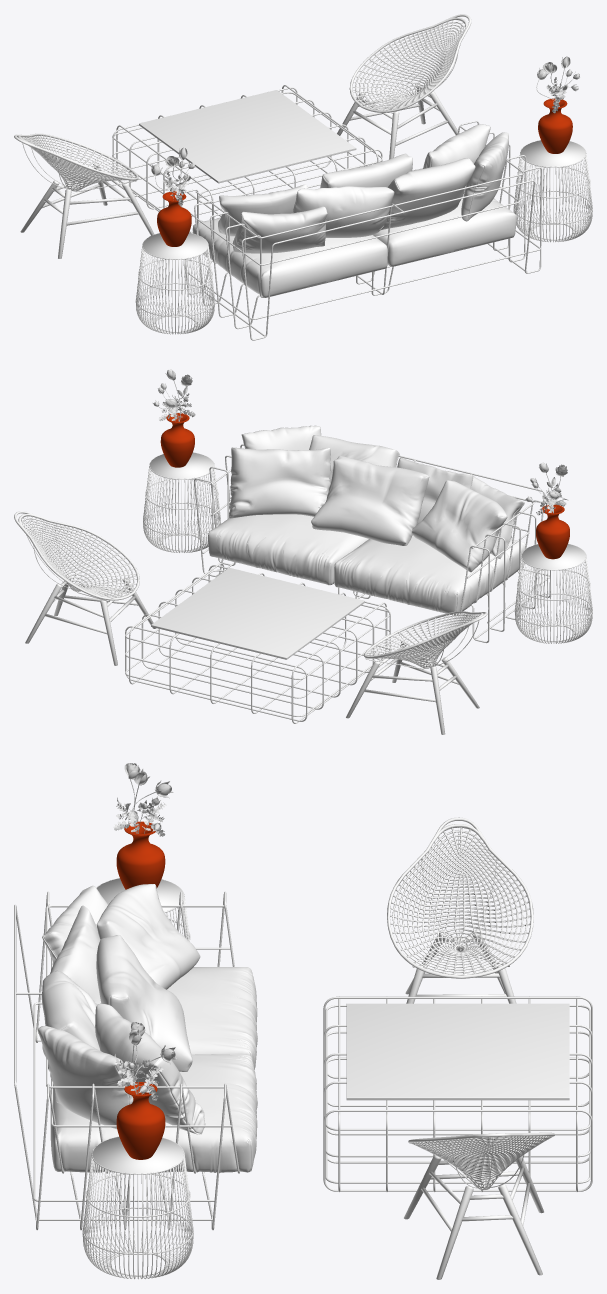
The model's file is candidate.sofa.sofa-001-0ae2-003.glb.
3 renders of one model, top to bottom at view 1: azimuth 30°, elevation 25°; view 2: azimuth 150°, elevation 25°; view 3: azimuth 270°, elevation 25°, orthographic. The views are drawn at different scales.
Parts seen in each view (by area): view 1: Sofa.003, Rectangle001_Defintion.003, Retopo_DE-TEA-AD-GRA_Component_14.007, G-__561090.007, Retopo_DE-TEA-AD-GRA_Component_14.008, G-__561090.006, Tea table.003, Pottery.011, Pottery.012, Flowers.042, Flowers.046; view 2: Sofa.003, Rectangle001_Defintion.003, Tea table.003, Retopo_DE-TEA-AD-GRA_Component_14.007, G-__561090.007, Retopo_DE-TEA-AD-GRA_Component_14.008, G-__561090.006, Pottery.012, Pottery.011; view 3: Sofa.003, Rectangle001_Defintion.003, Retopo_DE-TEA-AD-GRA_Component_14.008, G-__561090.006, Tea table.003, Retopo_DE-TEA-AD-GRA_Component_14.007, Pottery.012, Pottery.011, G-__561090.007, Flowers.042, Flowers.046.
Part boxes in pixels (x1=…): Sofa.003: x1=180, y1=120, x2=542, y2=340; Rectangle001_Defintion.003: x1=139, y1=90, x2=356, y2=183; Retopo_DE-TEA-AD-GRA_Component_14.007: x1=337, y1=14, x2=471, y2=159; G-__561090.007: x1=135, y1=232, x2=215, y2=334; Retopo_DE-TEA-AD-GRA_Component_14.008: x1=14, y1=133, x2=154, y2=258; G-__561090.006: x1=513, y1=140, x2=592, y2=242; Tea table.003: x1=112, y1=85, x2=382, y2=233; Pottery.011: x1=157, y1=191, x2=191, y2=246; Pottery.012: x1=538, y1=98, x2=572, y2=153; Flowers.042: x1=151, y1=147, x2=190, y2=194; Flowers.046: x1=536, y1=56, x2=570, y2=100; Sofa.003: x1=194, y1=425, x2=550, y2=643; Rectangle001_Defintion.003: x1=151, y1=567, x2=364, y2=659; Tea table.003: x1=125, y1=563, x2=390, y2=723; Retopo_DE-TEA-AD-GRA_Component_14.007: x1=14, y1=511, x2=156, y2=665; G-__561090.007: x1=514, y1=543, x2=592, y2=643; Retopo_DE-TEA-AD-GRA_Component_14.008: x1=346, y1=611, x2=487, y2=734; G-__561090.006: x1=143, y1=452, x2=220, y2=552; Pottery.012: x1=160, y1=413, x2=194, y2=467; Pottery.011: x1=536, y1=504, x2=569, y2=559; Sofa.003: x1=14, y1=884, x2=257, y2=1230; Rectangle001_Defintion.003: x1=346, y1=1003, x2=569, y2=1100; Retopo_DE-TEA-AD-GRA_Component_14.008: x1=387, y1=817, x2=533, y2=1003; G-__561090.006: x1=82, y1=1136, x2=193, y2=1279; Tea table.003: x1=323, y1=996, x2=592, y2=1192; Retopo_DE-TEA-AD-GRA_Component_14.007: x1=404, y1=1132, x2=554, y2=1279; Pottery.012: x1=116, y1=1082, x2=165, y2=1159; Pottery.011: x1=116, y1=821, x2=165, y2=889; G-__561090.007: x1=96, y1=878, x2=190, y2=941; Flowers.042: x1=117, y1=763, x2=173, y2=833; Flowers.046: x1=114, y1=1022, x2=177, y2=1094.
Size of the model in its own units: 3.37 by 1.2 by 2.59.
